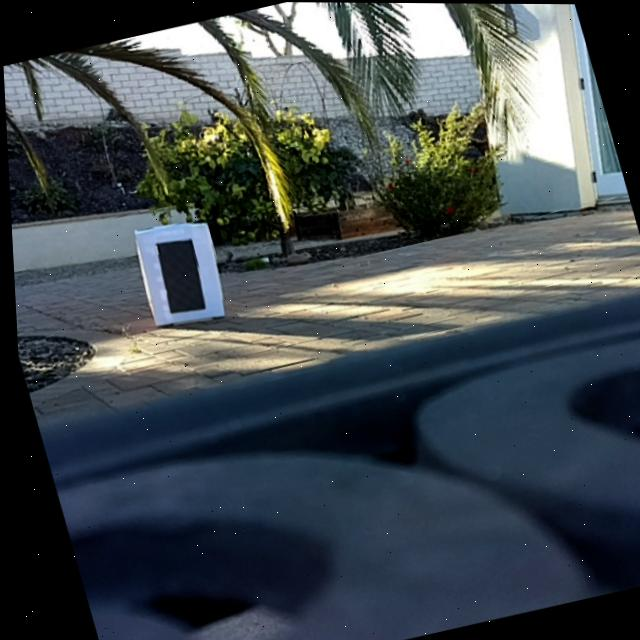led: (150, 234, 208, 317)
